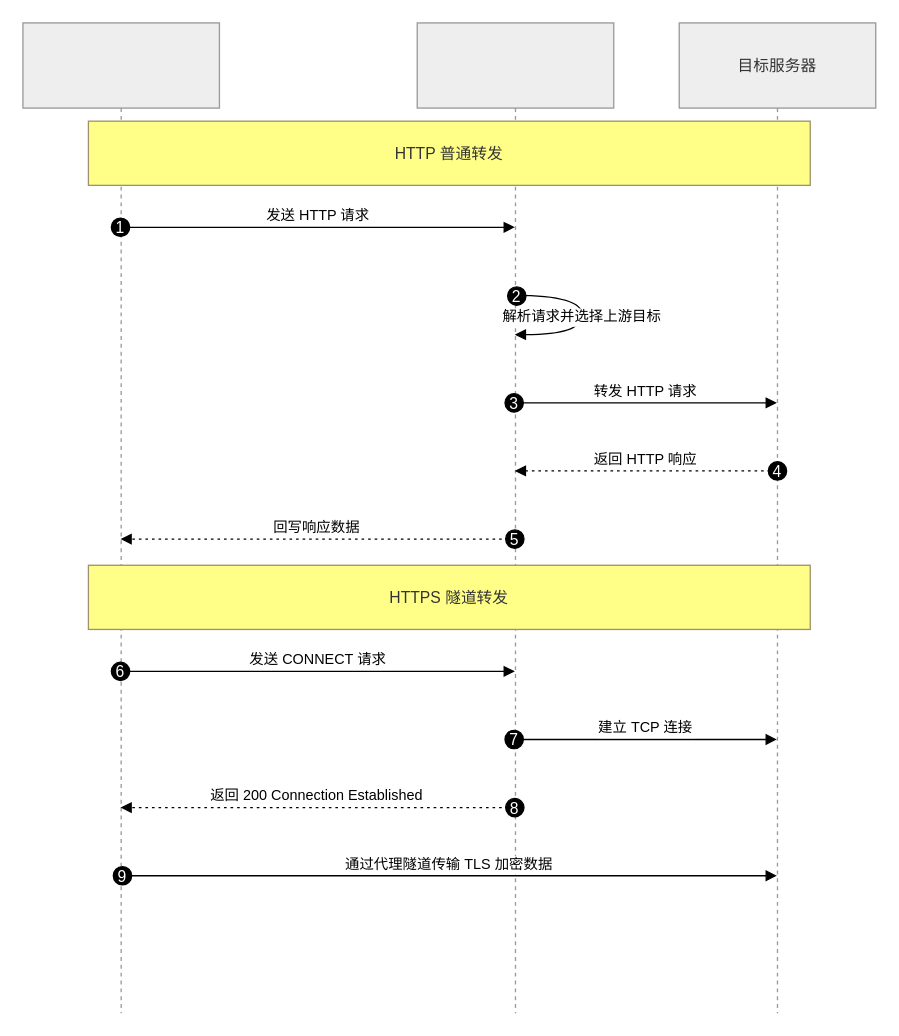
The diagram is 899 pixels wide and 1036 high, and some of its shapes have lost their labels. The shapes that lost their labels are listed below. From the top down, each one's box as (x1, y1, x2, y2) in pixels, then its label:
(22, 22, 219, 1013): 客户端
(416, 22, 614, 1013): 代理核心
